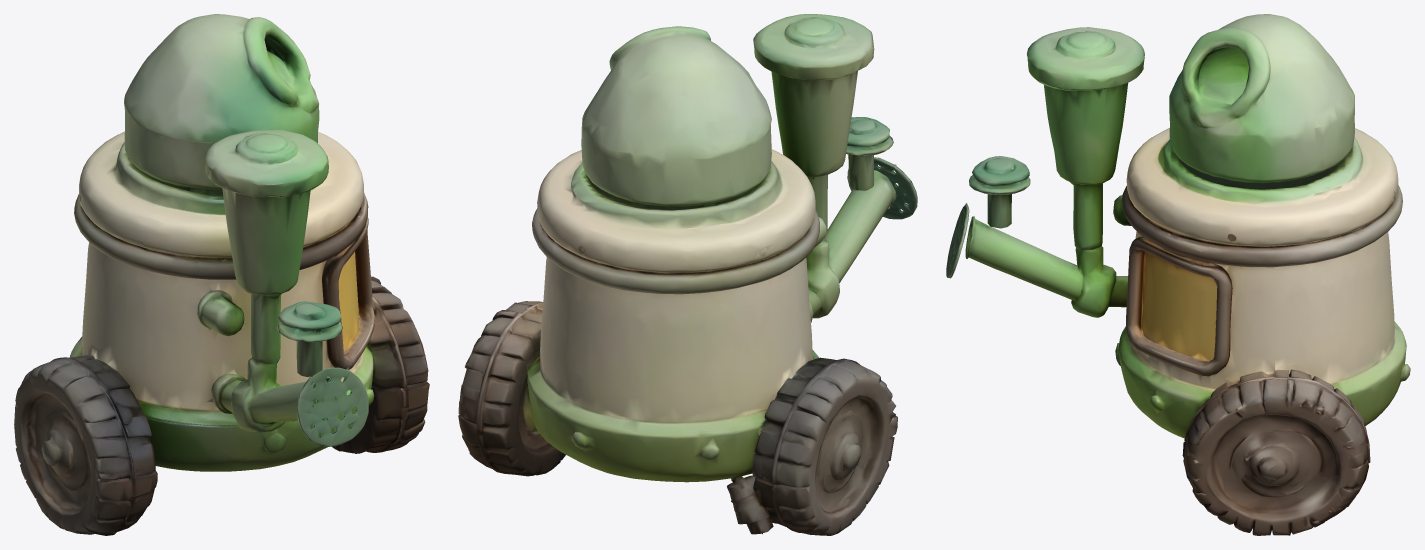
Rendered from watering-helper.glb.
The picture shows the model from 3 angles, left to right: view 1: azimuth 30°, elevation 25°; view 2: azimuth 150°, elevation 25°; view 3: azimuth 270°, elevation 25°; orthographic projection. The views are drawn at different scales.
Visible parts, largest first — view 1: tripo_node_d0ec93cc-1199-4e00-b80a-2bd89b18783a; view 2: tripo_node_d0ec93cc-1199-4e00-b80a-2bd89b18783a; view 3: tripo_node_d0ec93cc-1199-4e00-b80a-2bd89b18783a.
Boxes of the visible parts, x1,y1,x2,y2 form: tripo_node_d0ec93cc-1199-4e00-b80a-2bd89b18783a: (14, 14, 429, 535); tripo_node_d0ec93cc-1199-4e00-b80a-2bd89b18783a: (458, 14, 917, 535); tripo_node_d0ec93cc-1199-4e00-b80a-2bd89b18783a: (946, 14, 1410, 535).
Bounding box in the file's own units: 0.8112 × 1 × 0.9564.
1 material, 1 textured.
